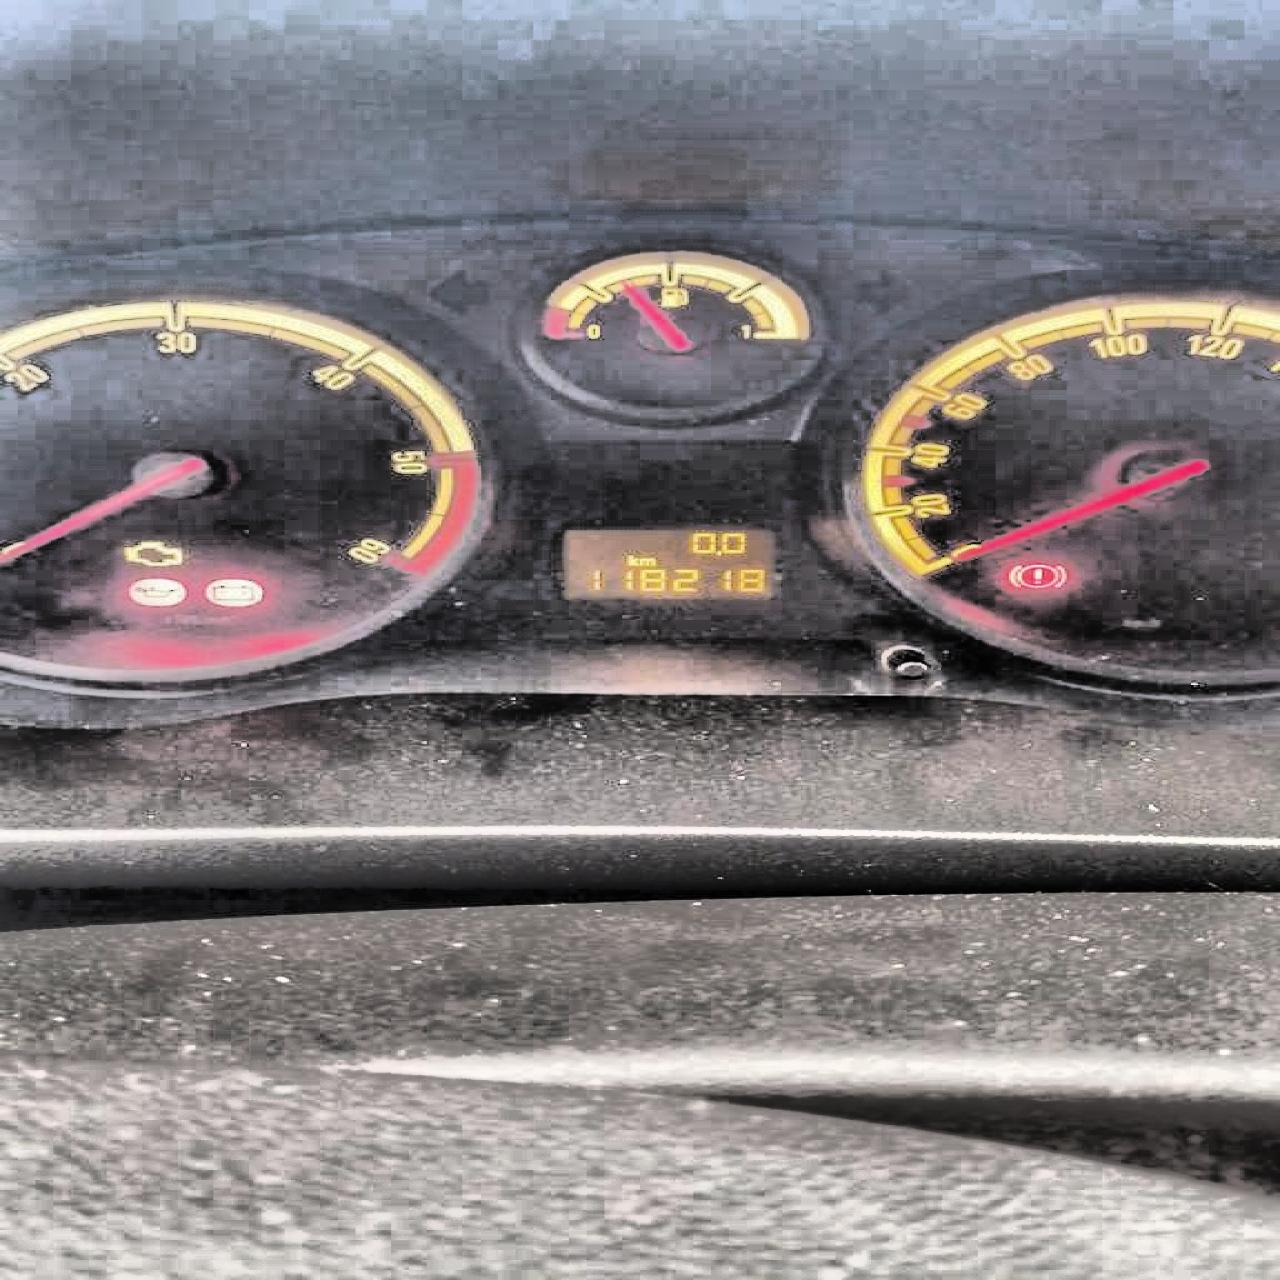-: (713, 549, 717, 553)
0: (720, 532, 744, 552), (692, 532, 713, 553)
1: (588, 566, 602, 592), (722, 567, 729, 591), (625, 568, 632, 590)
2: (672, 567, 696, 592)
8: (735, 566, 764, 592), (638, 568, 665, 591)
X: (638, 554, 655, 566), (620, 554, 638, 565)
odometer: (560, 524, 794, 606)
